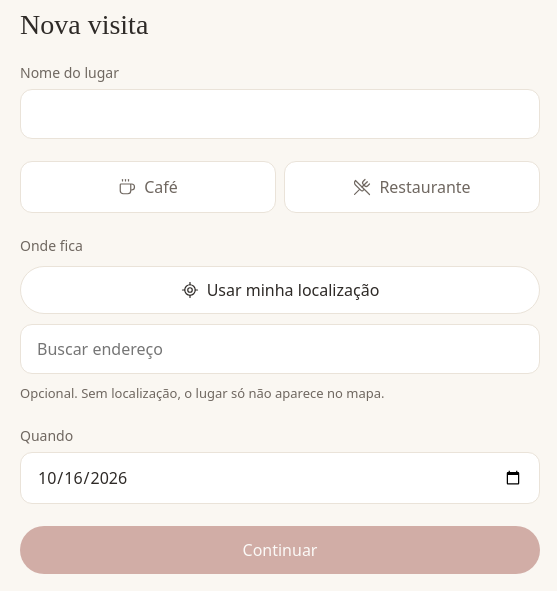
localização que chega depois não desfaz o que foi escolhido enquanto isso
Click the button "Usar minha localização" at (280, 290), box top-left (20, 266), bottom-right (540, 314)
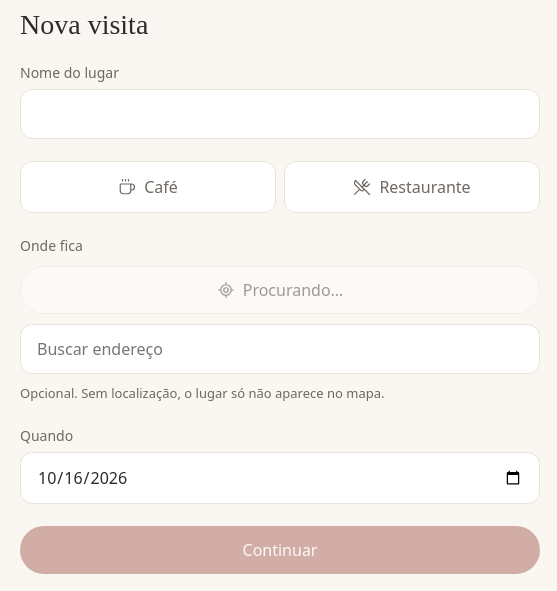
Click the button "Café" at (148, 187), box top-left (20, 161), bottom-right (276, 213)
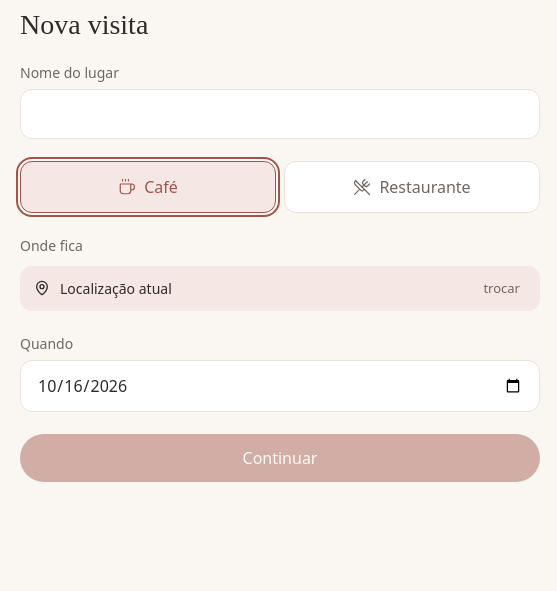
Now the text "Localização atual" is shown, box top-left (60, 279), bottom-right (172, 298)
